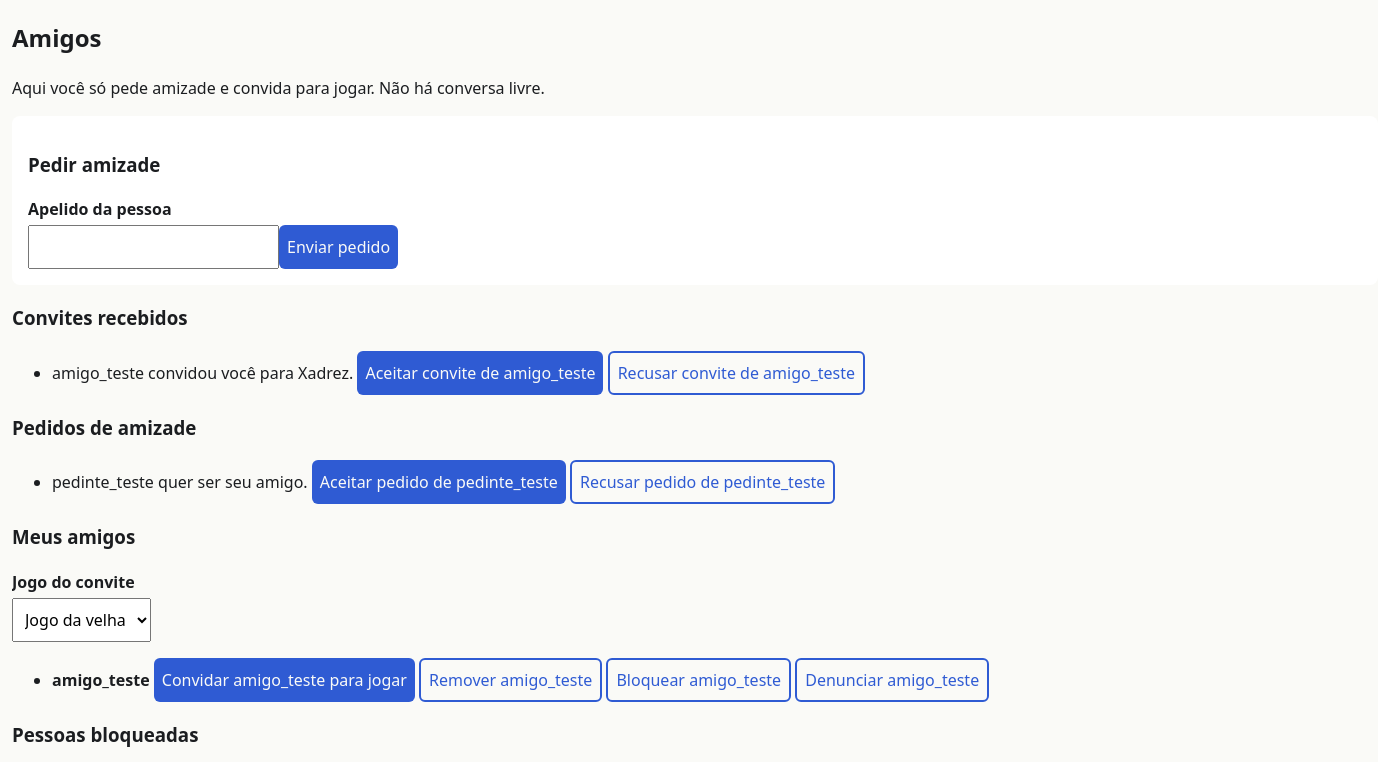
Test: pedir amizade envia o apelido com CSRF
The image size is (1378, 762).
Step 1. Type "novo_amigo" into the field labelled "Apelido da pessoa" → (154, 247), box [28,225,279,269]
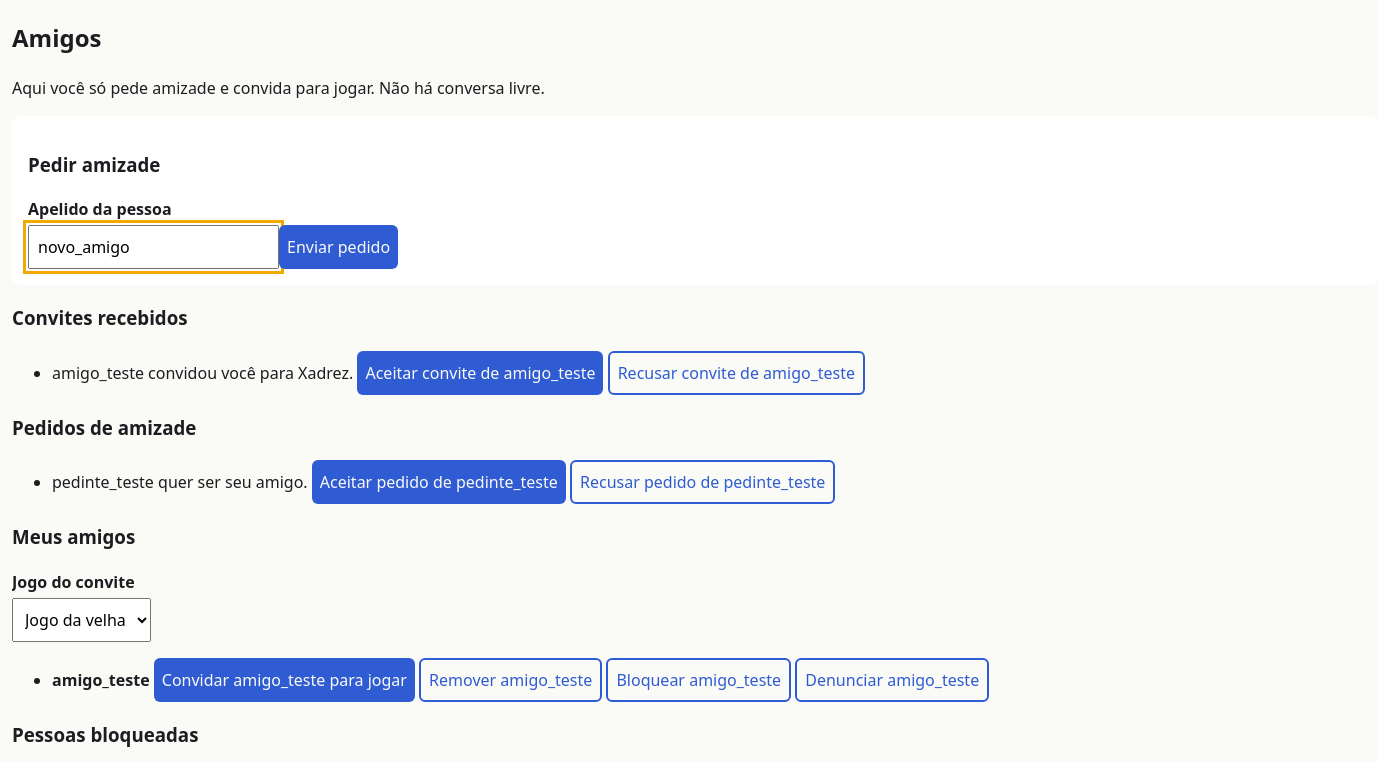
Step 2. Click the button "Enviar pedido" → (339, 247), box [279,225,398,269]
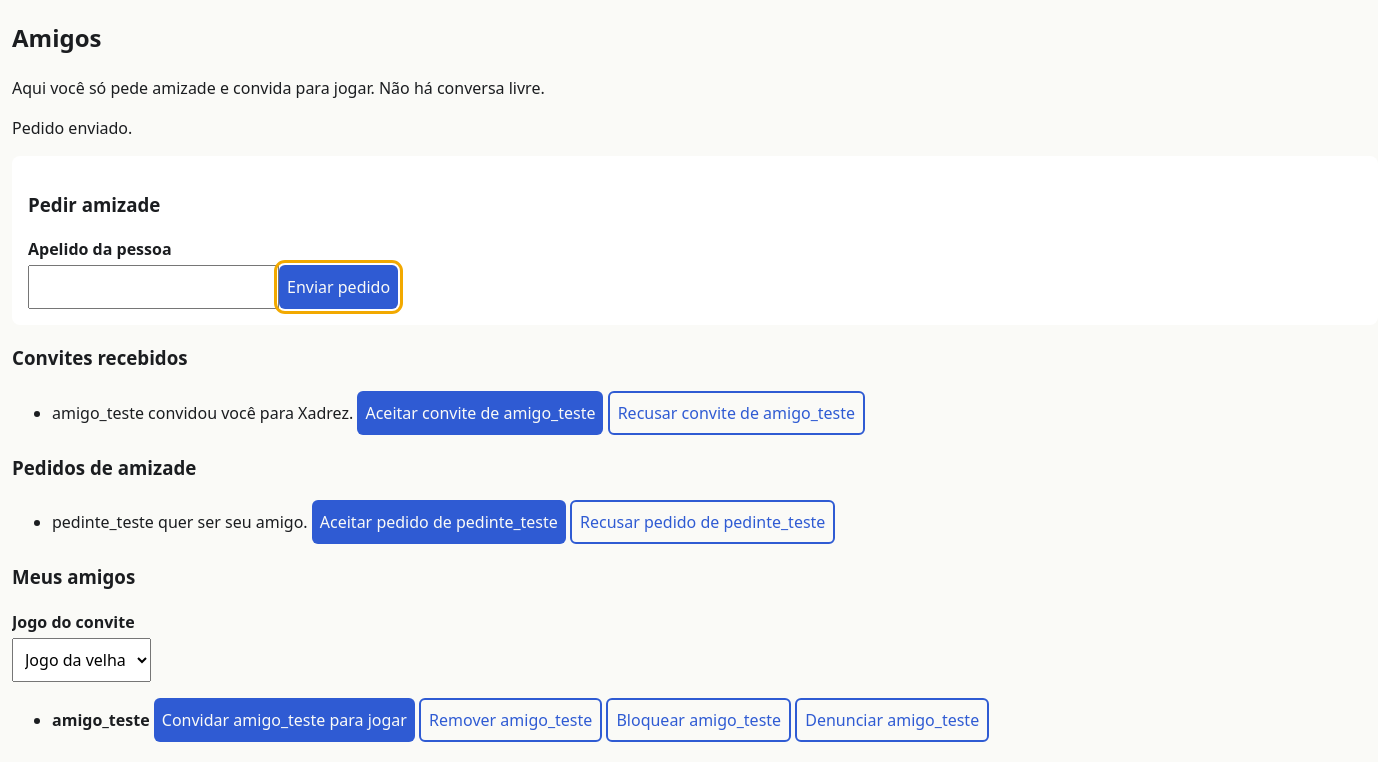
Check: the text "Pedido enviado." is shown, box [12,117,132,139]
